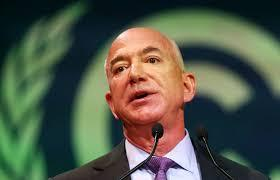Persons: (104, 25, 198, 138)
